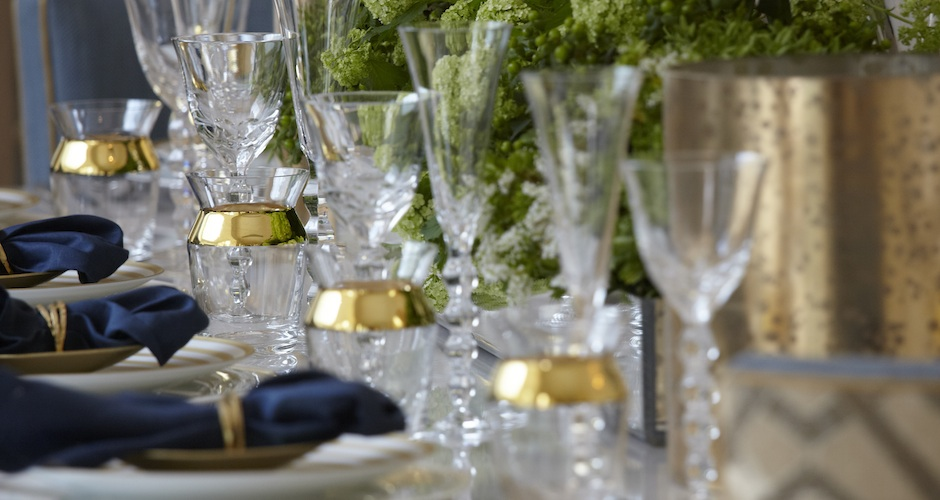Nonrec_Glass: (621, 155, 783, 494), (395, 7, 501, 476), (302, 63, 426, 445), (526, 54, 623, 491), (173, 18, 301, 339), (35, 70, 172, 272)
